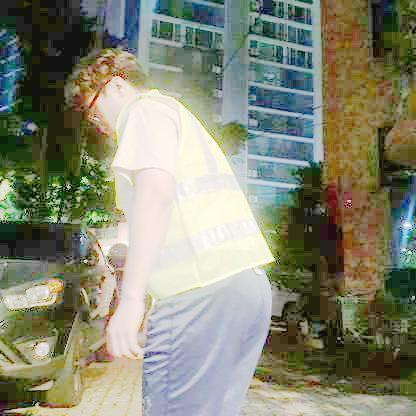no-helmet: (65, 43, 141, 121)
vest: (112, 87, 277, 301)
